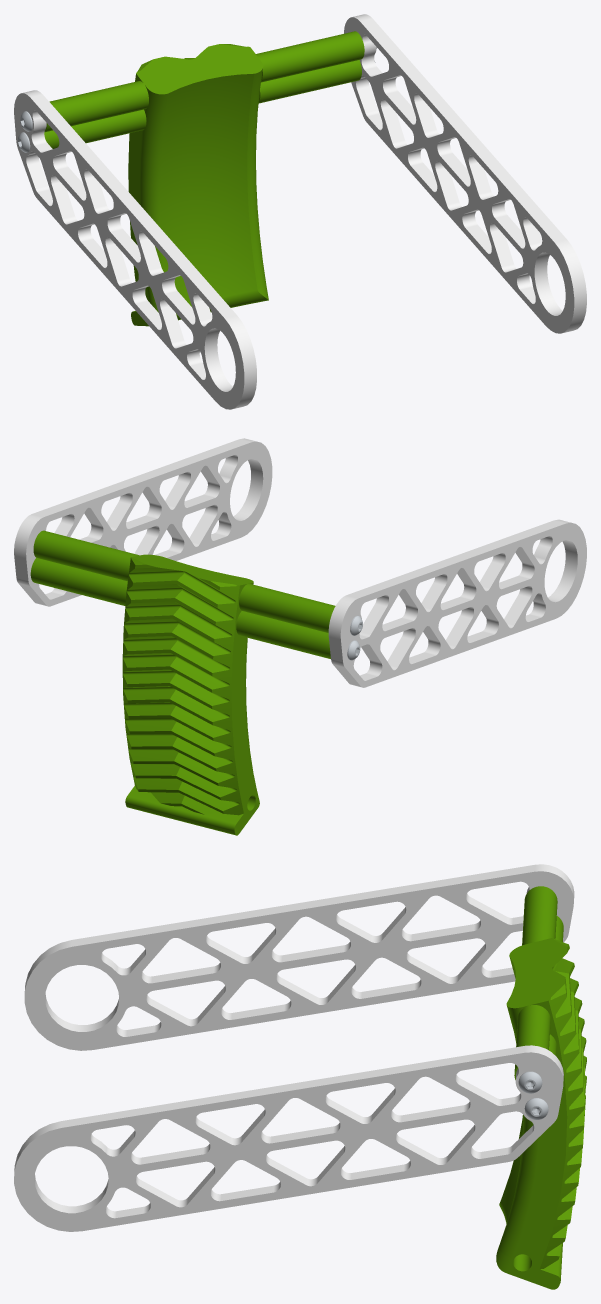
3 views of the same model, one above another, from view 1: azimuth 30°, elevation 25°; view 2: azimuth 150°, elevation 25°; view 3: azimuth 270°, elevation 25° (orthographic). The views are drawn at different scales.
Visible parts, largest first — view 1: Rack, Hood Arm.001, Hood Arm, Rack Spacer 1, Rack Spacer 1.001; view 2: Rack, Hood Arm.001, Hood Arm, Rack Spacer 1, Rack Spacer 1.001; view 3: Hood Arm, Hood Arm.001, Rack, Rack Spacer 1.001, Rack Spacer 1.
Part boxes in pixels (<box>): Rack: <box>128,44,268,326</box>; Hood Arm.001: <box>14,90,256,409</box>; Hood Arm: <box>344,14,586,333</box>; Rack Spacer 1: <box>256,31,364,103</box>; Rack Spacer 1.001: <box>44,81,148,148</box>; Rack: <box>122,554,259,835</box>; Hood Arm.001: <box>328,519,586,687</box>; Hood Arm: <box>14,438,272,606</box>; Rack Spacer 1: <box>30,530,139,605</box>; Rack Spacer 1.001: <box>236,583,335,658</box>; Hood Arm: <box>14,1045,563,1231</box>; Hood Arm.001: <box>24,864,574,1050</box>; Rack: <box>496,938,586,1289</box>; Rack Spacer 1.001: <box>522,886,563,945</box>; Rack Spacer 1: <box>514,1005,556,1079</box>.
Size of the model in its own units: 0.1787 by 0.1271 by 0.2203.
